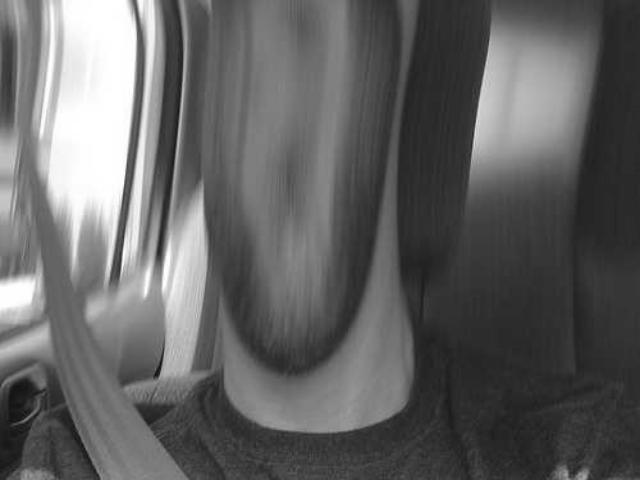Seatbelt: (18, 152, 198, 480)
